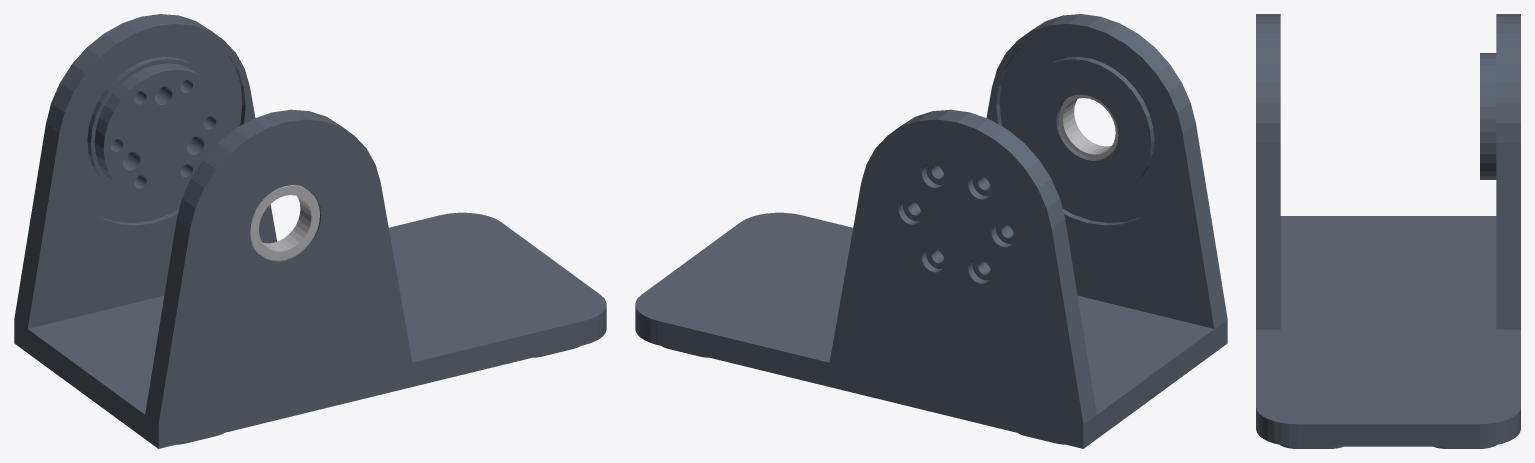
File: foot_R.dae
The picture shows the model from 3 angles, left to right: view 1: azimuth 30°, elevation 25°; view 2: azimuth 150°, elevation 25°; view 3: azimuth 270°, elevation 25°; orthographic projection. The views are drawn at different scales.
Visible parts, largest first — view 1: foot_R-printed, foot_R-steel; view 2: foot_R-printed, foot_R-steel; view 3: foot_R-printed.
Boxes of the visible parts, left/top/right/bottom form: foot_R-printed: left=14, top=14, right=606, bottom=448; foot_R-steel: left=249, top=185, right=319, bottom=260; foot_R-printed: left=635, top=14, right=1227, bottom=448; foot_R-steel: left=1058, top=94, right=1118, bottom=159; foot_R-printed: left=1256, top=14, right=1520, bottom=448.
Size of the model in its own units: 0.12 by 0.0645 by 0.076.
